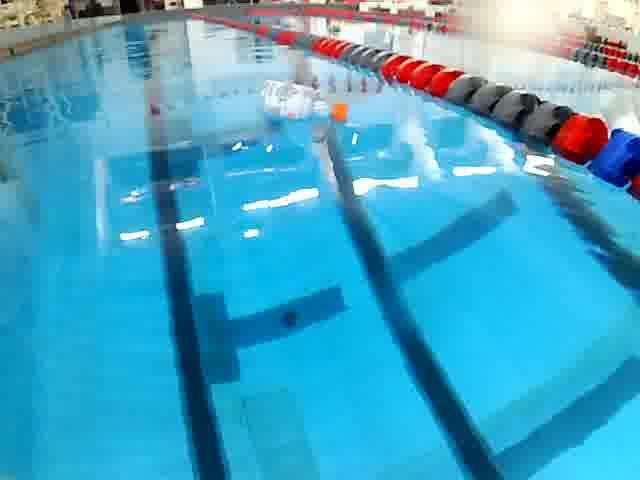Bottle: (257, 76, 350, 131)
